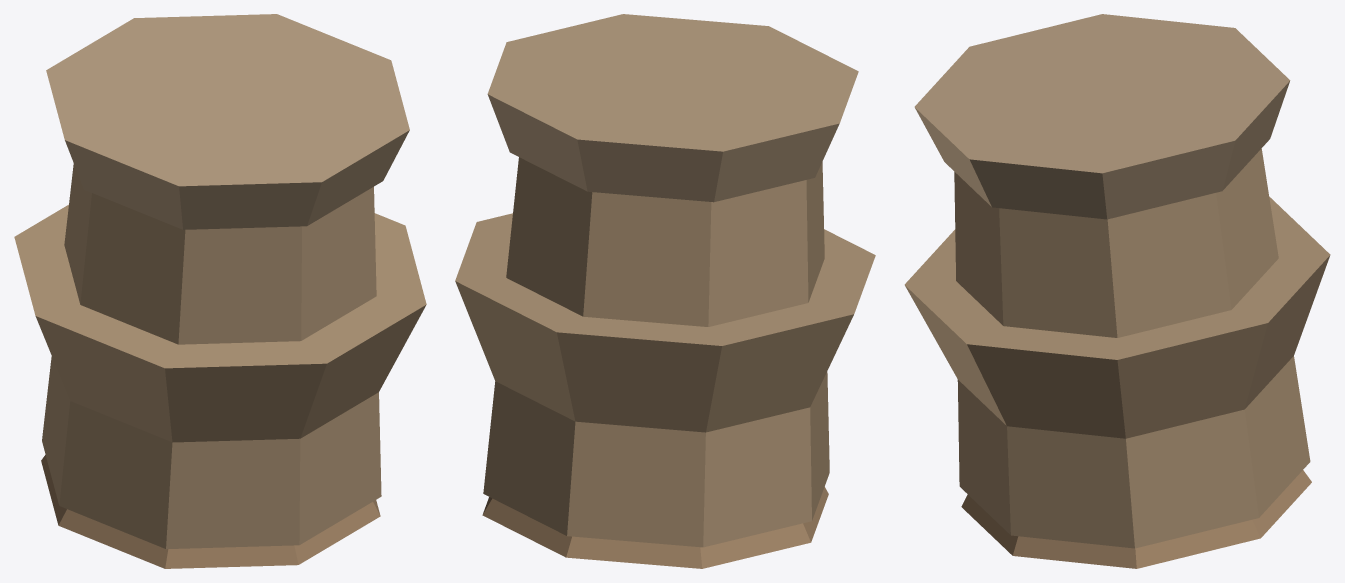
Rendered from clay_pot_v2.glb.
3 views of the same model, side by side, from view 1: azimuth 30°, elevation 25°; view 2: azimuth 150°, elevation 25°; view 3: azimuth 270°, elevation 25° (orthographic). The views are drawn at different scales.
Visible parts, largest first — view 1: world; view 2: world; view 3: world.
Part boxes in pixels (x1=…): world: x1=14, y1=14, x2=426, y2=568; world: x1=455, y1=14, x2=875, y2=568; world: x1=904, y1=14, x2=1330, y2=568.
Size of the model in its own units: 0.9081 by 1 by 0.9054.
